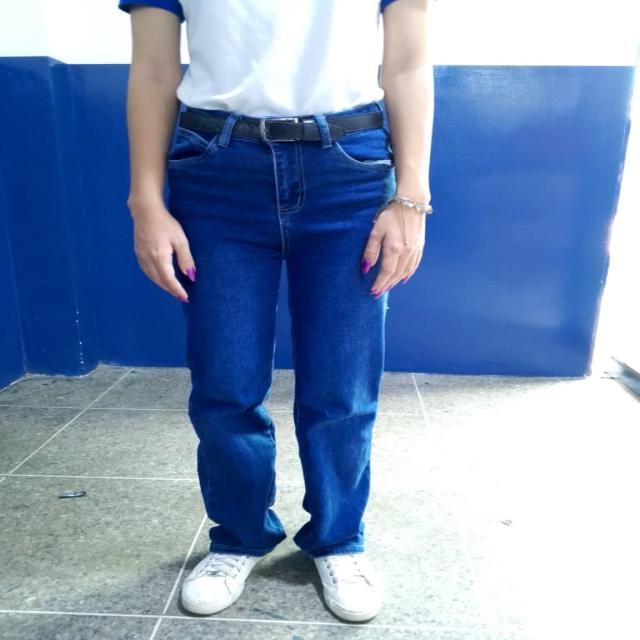pantalon_oscuro: (165, 113, 397, 558)
